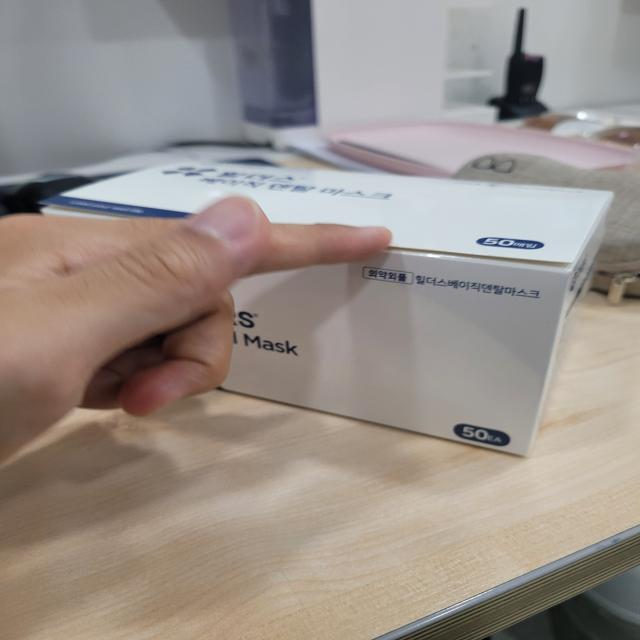mask: (12, 135, 640, 488)
